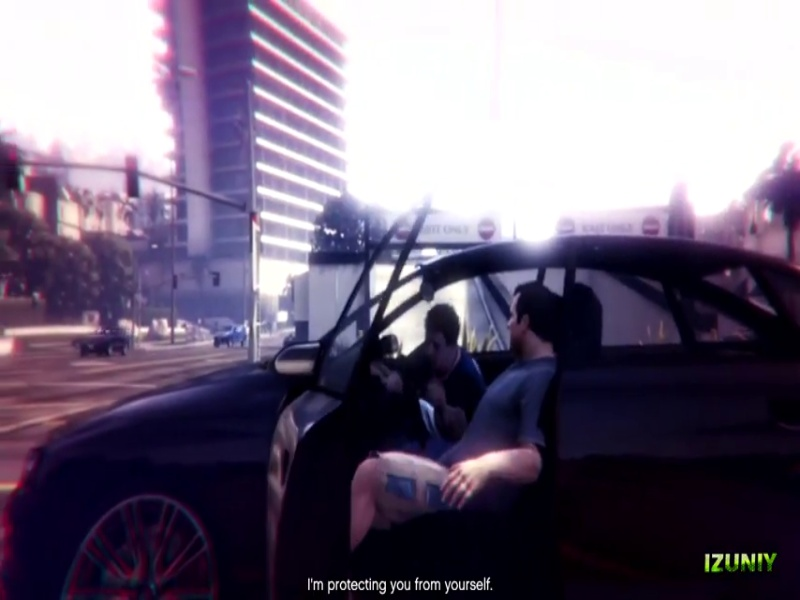human: (315, 300, 542, 567)
